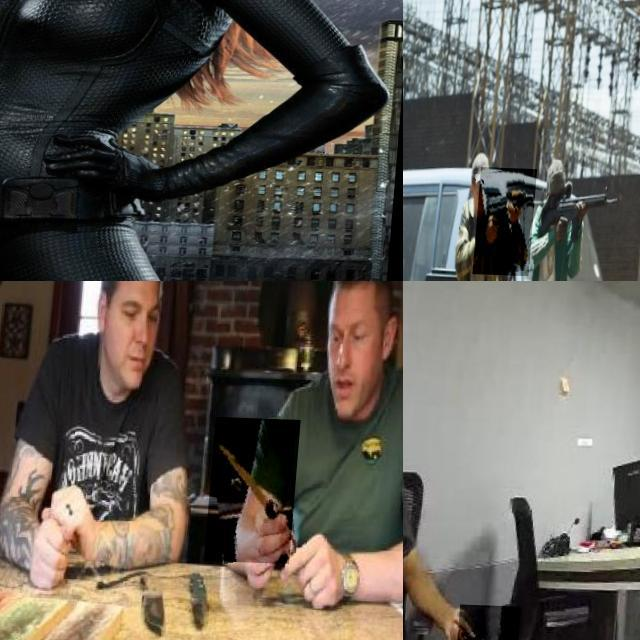-: (212, 414, 306, 560), (465, 601, 530, 640)
gun-knife-thesis - v11 Yolov5 augmented: (532, 165, 626, 272), (478, 166, 540, 274), (0, 0, 85, 67)
